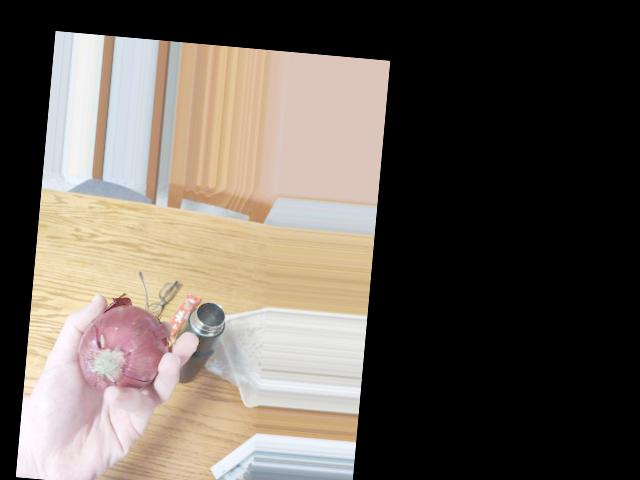onion: (73, 309, 170, 397)
